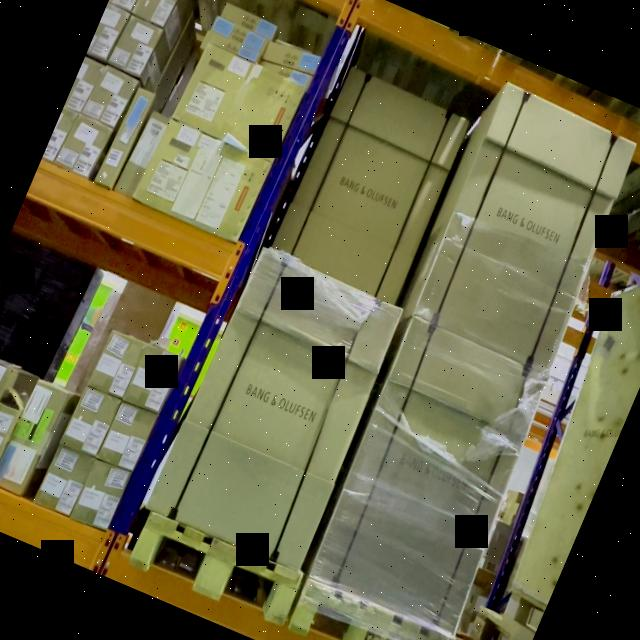box: (146, 247, 404, 571), (311, 317, 545, 633), (411, 82, 635, 372), (270, 67, 468, 305)
